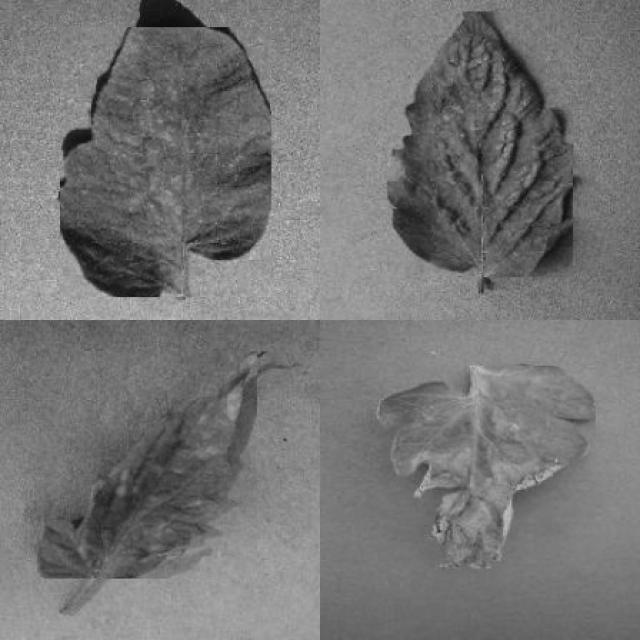Late Blight: (378, 365, 596, 569)
Leaf Mold: (37, 348, 257, 578)
Spider Mites: (60, 27, 271, 297), (387, 12, 573, 278)
